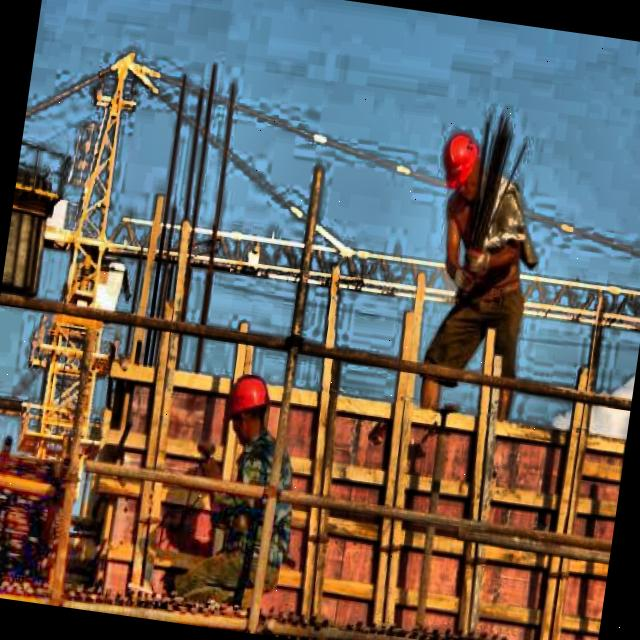helmet: (434, 125, 486, 212), (224, 368, 278, 444)
